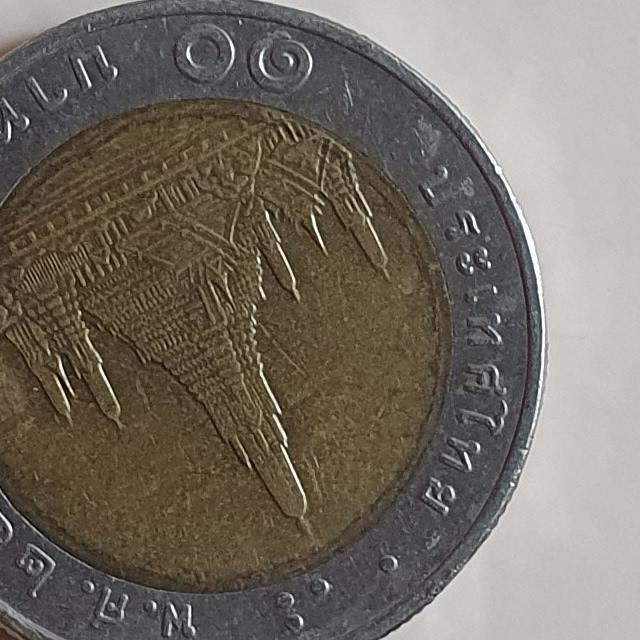10 Bath: (1, 1, 558, 640)
